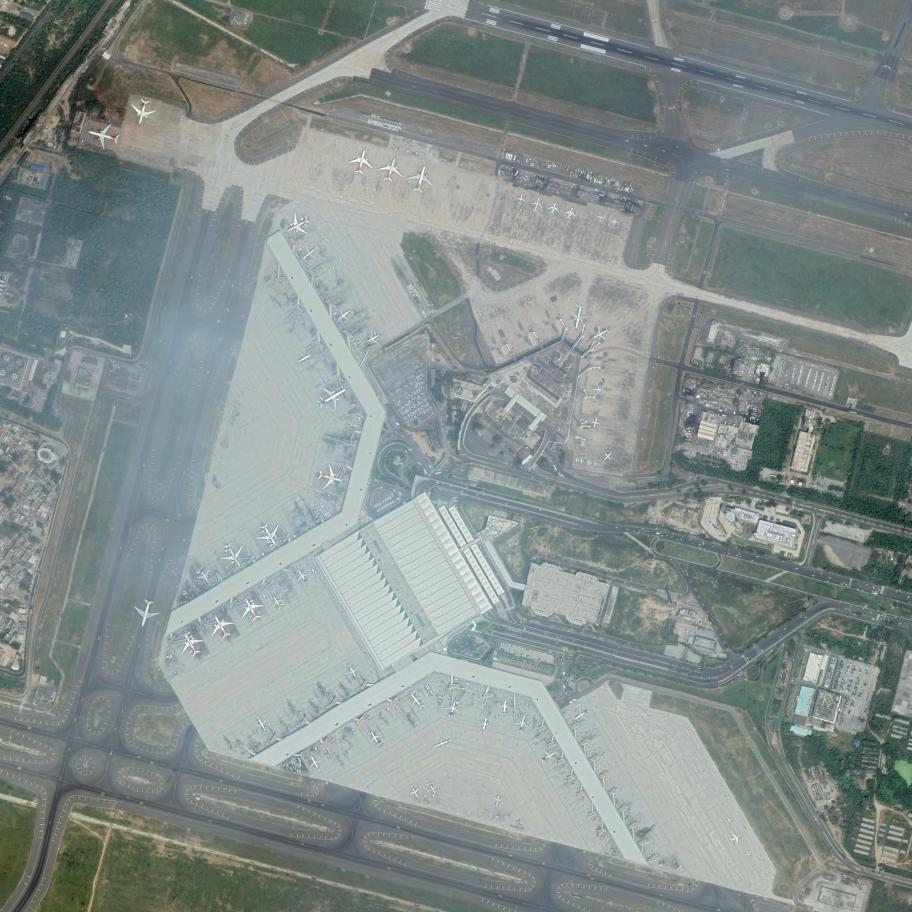large-vehicle: (429, 689, 433, 694), (435, 472, 441, 475), (645, 530, 651, 533), (407, 284, 411, 288), (417, 462, 422, 465), (424, 469, 427, 474), (427, 684, 430, 689), (426, 685, 429, 690), (656, 532, 661, 535), (408, 286, 412, 289), (409, 287, 413, 290)
plane: (310, 377, 354, 419), (83, 117, 123, 154), (214, 535, 251, 574), (280, 206, 318, 243), (252, 515, 289, 552), (233, 590, 270, 627), (173, 625, 209, 662), (202, 609, 239, 645), (403, 162, 439, 198), (373, 152, 406, 189), (129, 596, 163, 631), (313, 459, 345, 495), (346, 145, 377, 179), (128, 96, 159, 128), (533, 743, 561, 771), (403, 686, 430, 715), (567, 300, 591, 331), (303, 750, 327, 776), (363, 725, 387, 751), (588, 321, 613, 345), (569, 703, 594, 727), (332, 303, 356, 327), (340, 659, 364, 683), (298, 241, 323, 264), (291, 564, 314, 589), (192, 562, 215, 587), (440, 698, 463, 723), (510, 711, 533, 736), (249, 711, 272, 735), (430, 732, 455, 754), (292, 348, 315, 371), (267, 592, 288, 614), (474, 714, 494, 737), (363, 327, 384, 348), (405, 780, 425, 802), (423, 779, 442, 799), (726, 829, 745, 848), (496, 698, 513, 718), (528, 194, 545, 213), (599, 449, 616, 466), (562, 204, 578, 221), (545, 200, 561, 217), (491, 790, 505, 809), (589, 415, 602, 430), (514, 192, 527, 206), (591, 383, 605, 396), (742, 848, 753, 860), (595, 213, 606, 224), (610, 217, 619, 227), (723, 816, 733, 825), (593, 460, 600, 468), (586, 459, 592, 466), (575, 457, 580, 464), (580, 458, 584, 464)
small-vehicle: (726, 648, 729, 651), (710, 621, 712, 624), (702, 542, 705, 544), (702, 543, 705, 545), (865, 584, 868, 586), (884, 614, 887, 616), (731, 666, 734, 668), (699, 544, 702, 546), (657, 538, 660, 540), (661, 535, 664, 537), (738, 553, 741, 555), (805, 617, 807, 619), (843, 582, 845, 584), (872, 592, 874, 594), (784, 628, 786, 630), (800, 615, 802, 617), (888, 619, 890, 621), (883, 618, 885, 620), (761, 649, 763, 651), (688, 476, 690, 478), (690, 476, 692, 478), (633, 530, 635, 532), (643, 532, 645, 534), (638, 532, 640, 534), (651, 548, 653, 550), (672, 533, 674, 535), (677, 539, 679, 541), (736, 555, 738, 557), (812, 575, 815, 576), (880, 618, 883, 619), (698, 668, 701, 669), (689, 539, 692, 540), (719, 558, 720, 561), (728, 553, 731, 554), (615, 527, 618, 528), (626, 529, 629, 530), (641, 528, 644, 529), (666, 535, 669, 536), (841, 584, 843, 585), (845, 584, 847, 585), (846, 586, 848, 587), (873, 587, 875, 588), (873, 588, 875, 589), (872, 591, 874, 592), (875, 592, 877, 593), (900, 623, 902, 624), (895, 617, 897, 618), (881, 615, 883, 616), (730, 665, 732, 666), (720, 670, 722, 671), (643, 529, 645, 530), (639, 531, 641, 532), (680, 539, 682, 540), (796, 568, 798, 569), (782, 561, 784, 562), (757, 556, 759, 557), (752, 560, 754, 561)
storage-tank: (13, 355, 27, 371), (9, 371, 23, 386), (1, 352, 14, 366), (1, 367, 7, 380)
